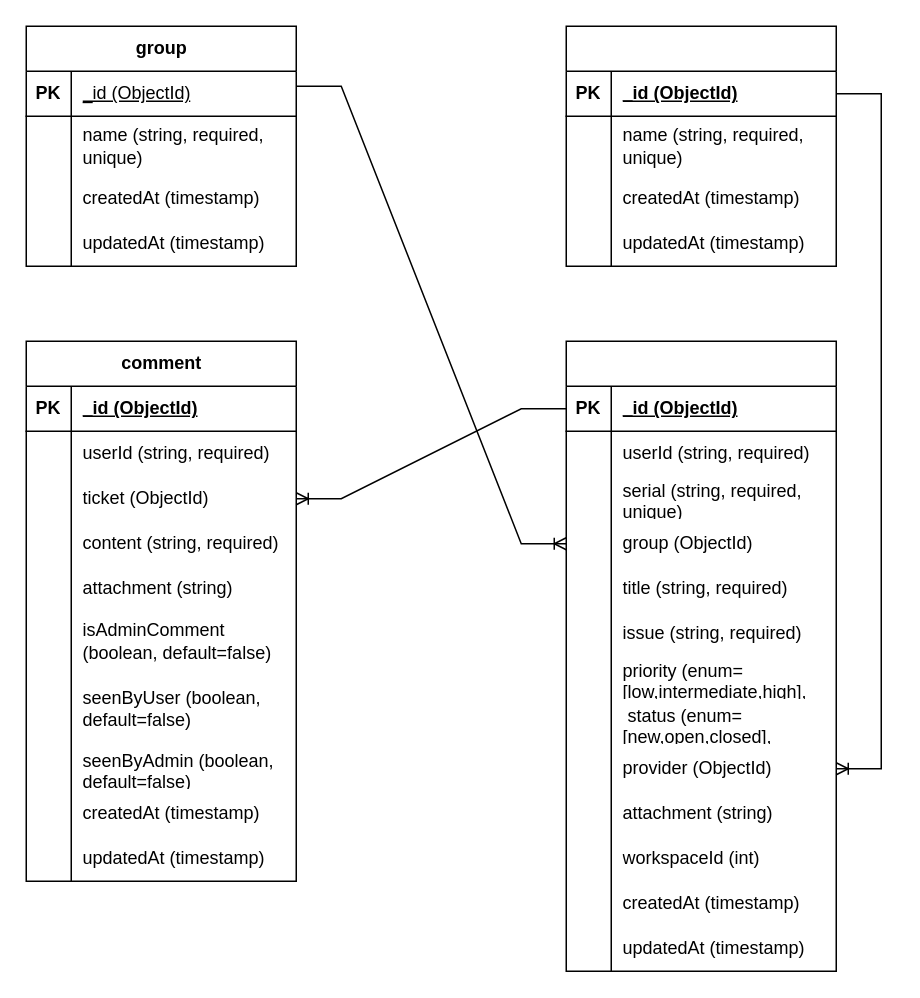
Image size: 920x998. Some labels were removed from this diagram. The box of each missing label's shape, as (x1, y1, x2, y2) in pixels:
provider: (565, 25, 836, 266)
ticket: (565, 340, 836, 971)
